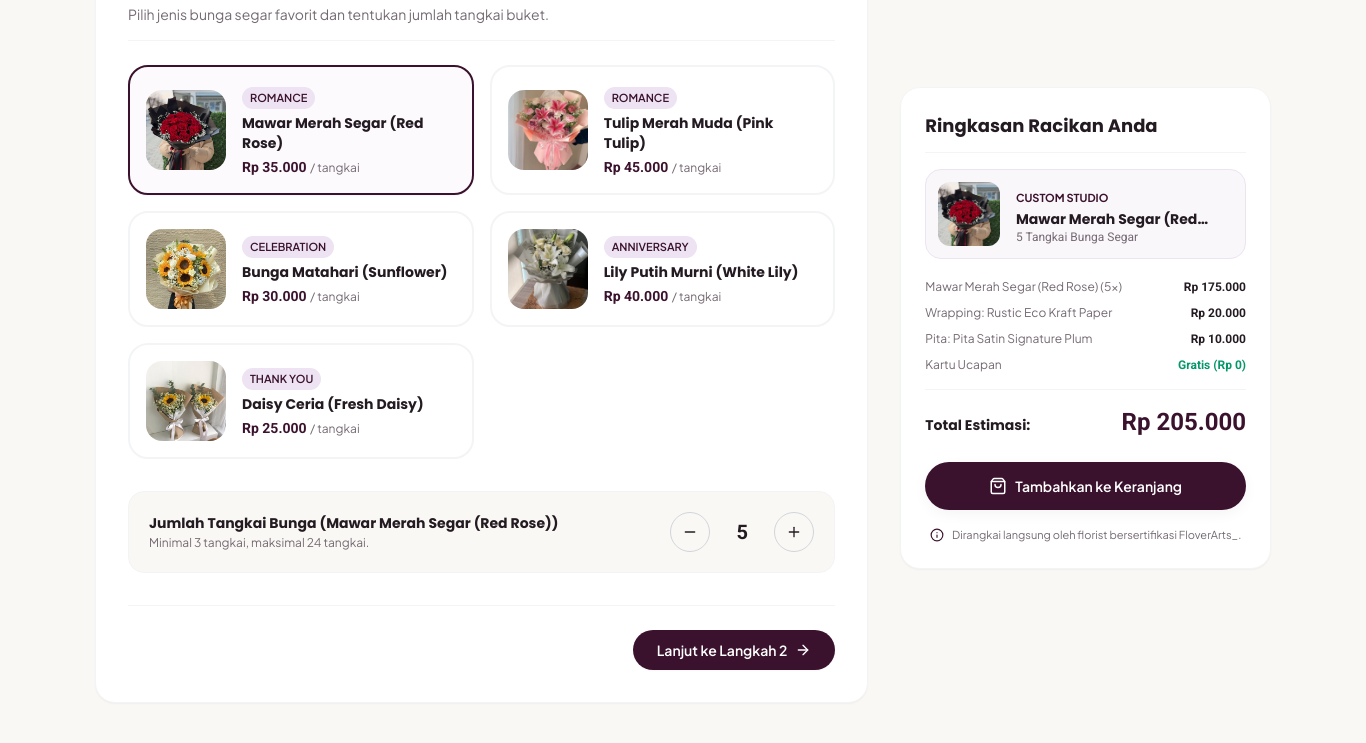
Test case: CustomBouquetPage Component › dapat berpindah antar langkah wizard hingga langkah 4
(page scrolled)
// Klik lanjut ke langkah 2
What coordinates should you click on to do the following:
click the button "Lanjut ke Langkah 2"
I would click on:
 (734, 650)
Its box is top-left (633, 630), bottom-right (835, 670).
(page scrolled)
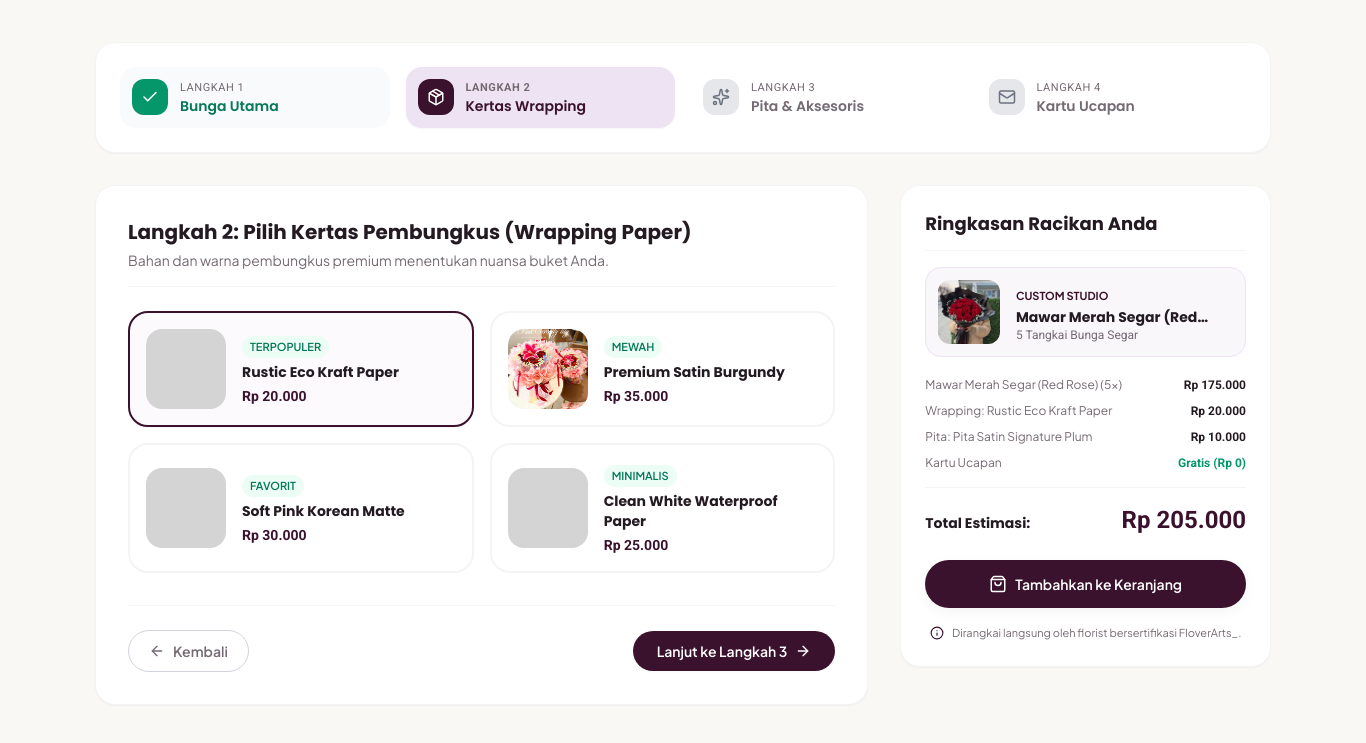
Expected: the heading "Langkah 2: Pilih Kertas Pembungkus (Wrapping Paper)" is shown, top-left (128, 218), bottom-right (692, 246)
// Klik lanjut ke langkah 3
What coordinates should you click on to do the following:
click the button "Lanjut ke Langkah 3"
I would click on:
 (734, 651)
Its box is top-left (633, 631), bottom-right (835, 671).
(page scrolled)
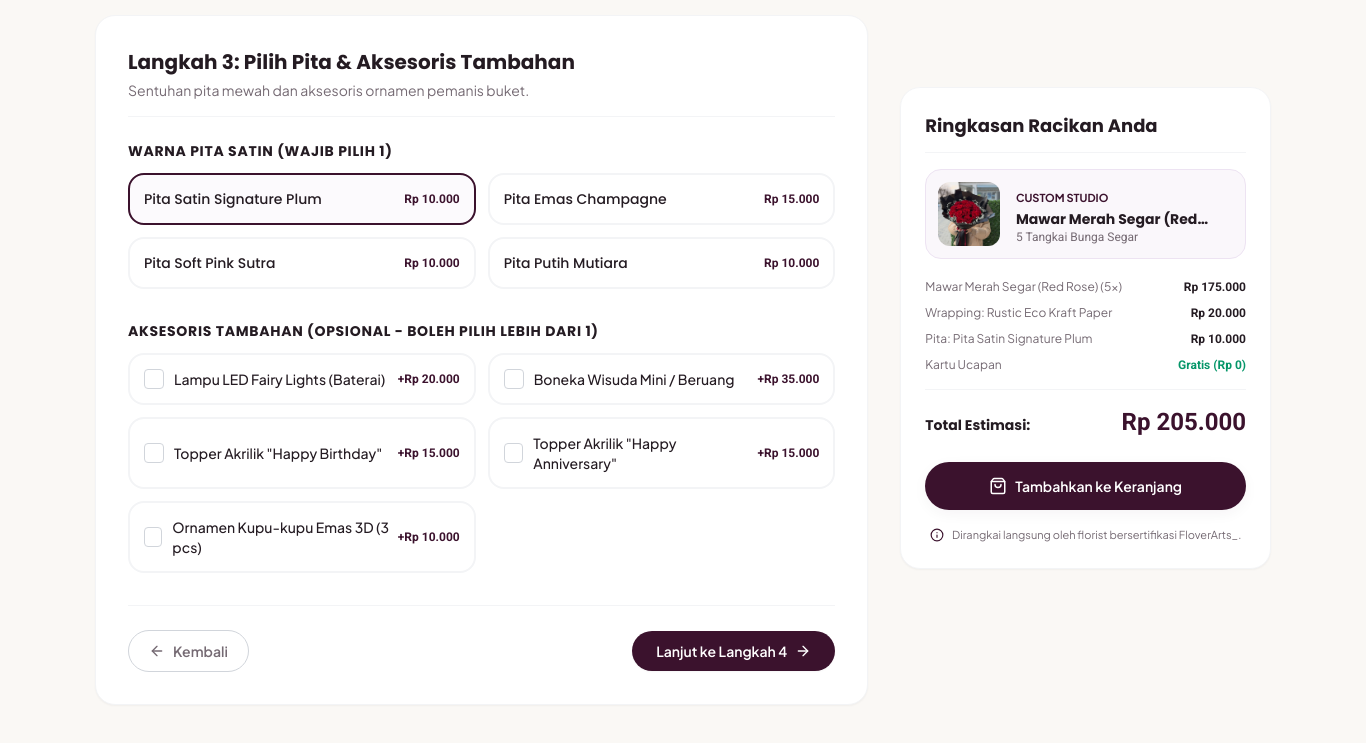
Expected: the heading "Langkah 3: Pilih Pita & Aksesoris Tambahan" is shown, top-left (128, 48), bottom-right (575, 76)
// Klik lanjut ke langkah 4
What coordinates should you click on to do the following:
click the button "Lanjut ke Langkah 4"
I would click on:
 (734, 651)
Its box is top-left (632, 631), bottom-right (835, 671).
(page scrolled)
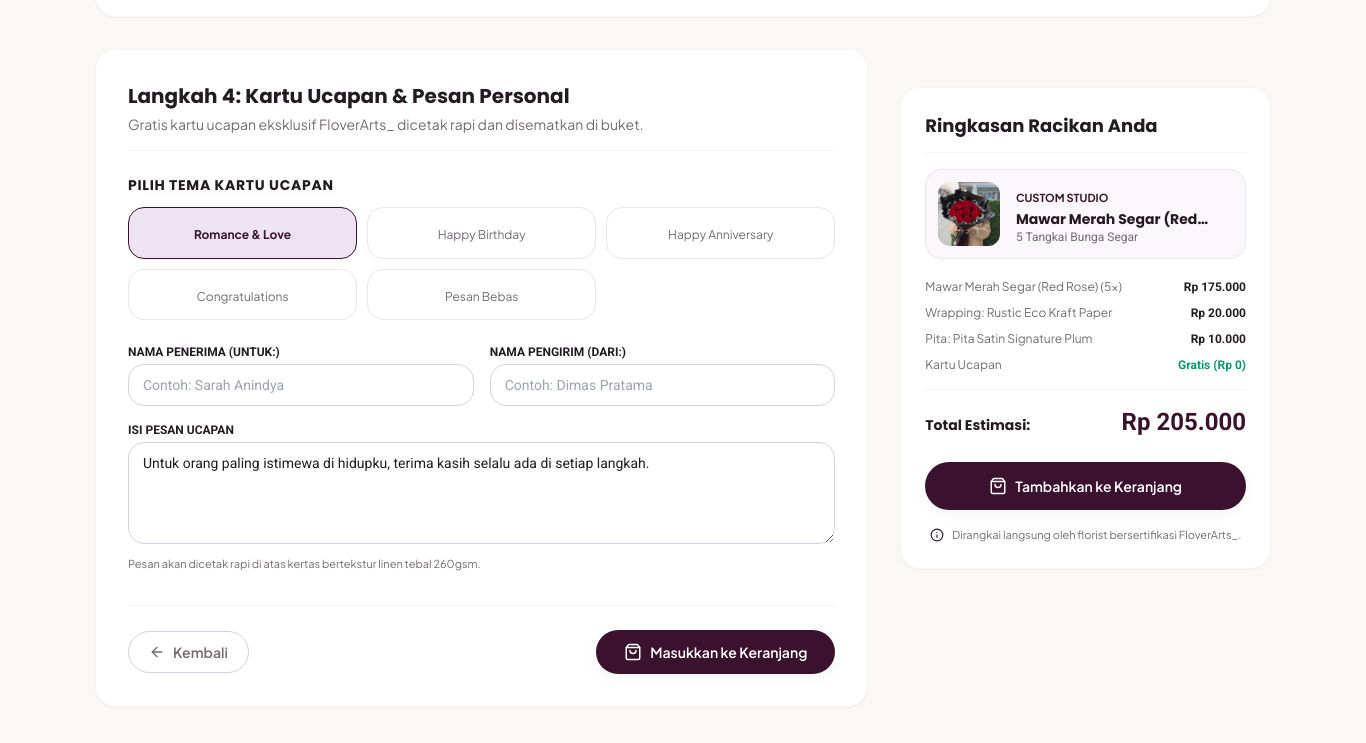
Expected: the heading "Langkah 4: Kartu Ucapan & Pesan Personal" is shown, top-left (128, 82), bottom-right (570, 110)
Expected: the button "Masukkan ke Keranjang" is shown, top-left (596, 630), bottom-right (835, 674)
